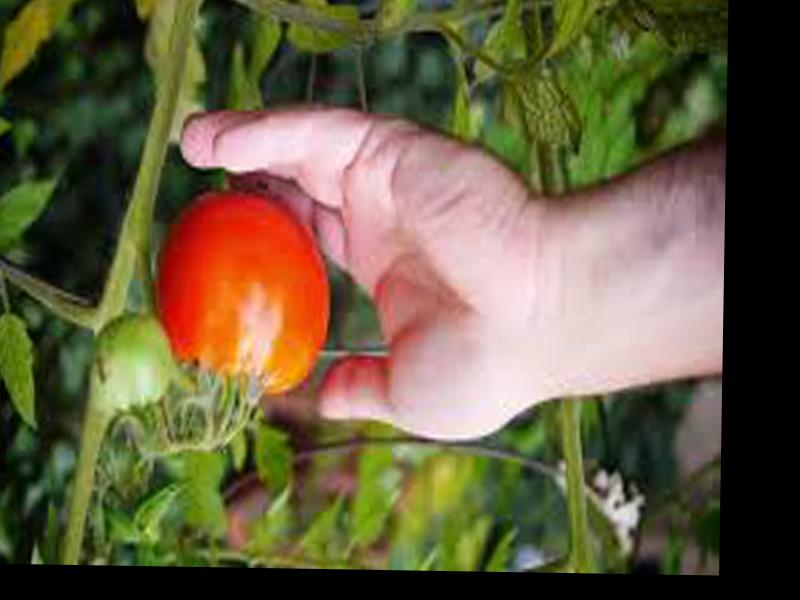Tomato: (149, 190, 332, 400)
